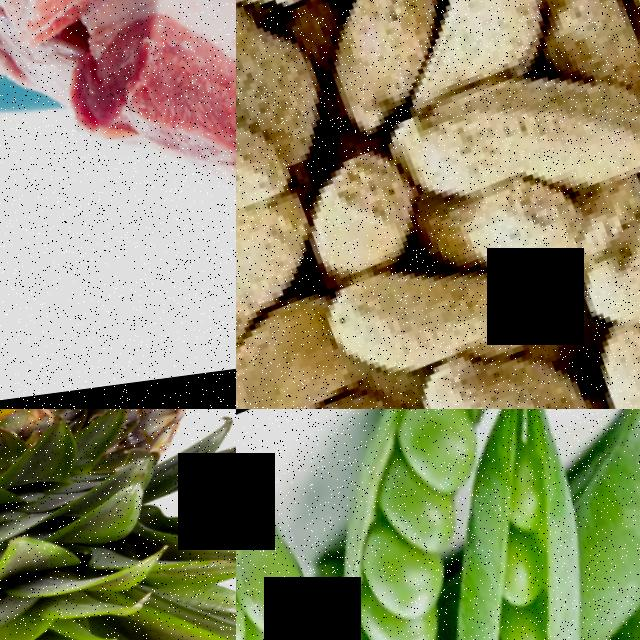peanuts: (371, 38, 640, 266), (309, 218, 556, 409), (236, 27, 296, 276)
peas: (240, 409, 640, 640), (236, 510, 334, 640)
pineapple: (0, 409, 236, 640)
pork belly: (26, 0, 236, 268), (0, 0, 236, 123)
